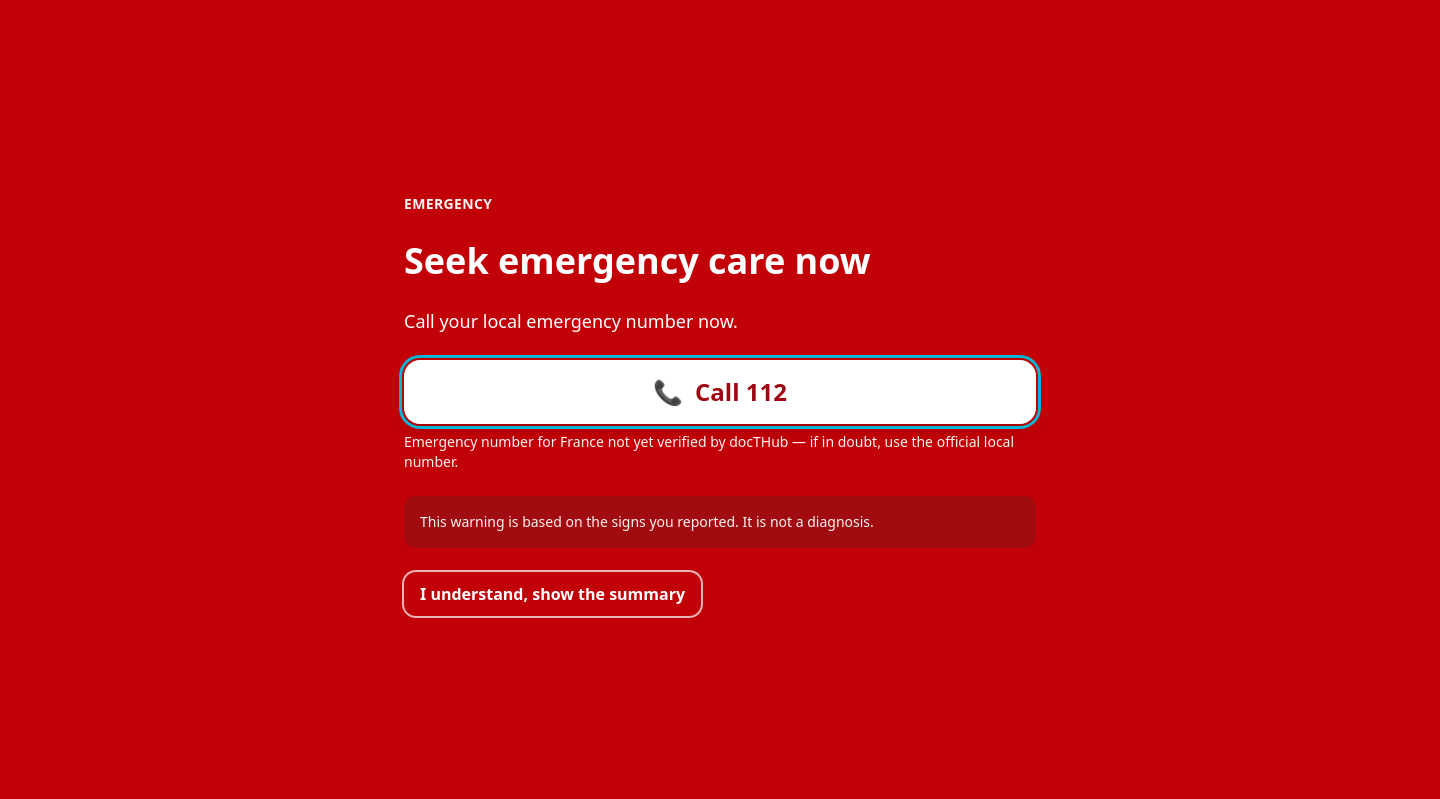
Scenario: ResultsPage › shows only the emergency instruction when an emergency rule matched
Expected: the dialog shows "Call your local emergency number now.", [404,309,738,333]
Expected: the text "not yet verified" is shown, [404,432,1014,471]
// Once acknowledged, the instruction stays pinned at the top with the call button.
Click the button "I understand, show the summary" at point(553, 594), box [404,572,701,616]
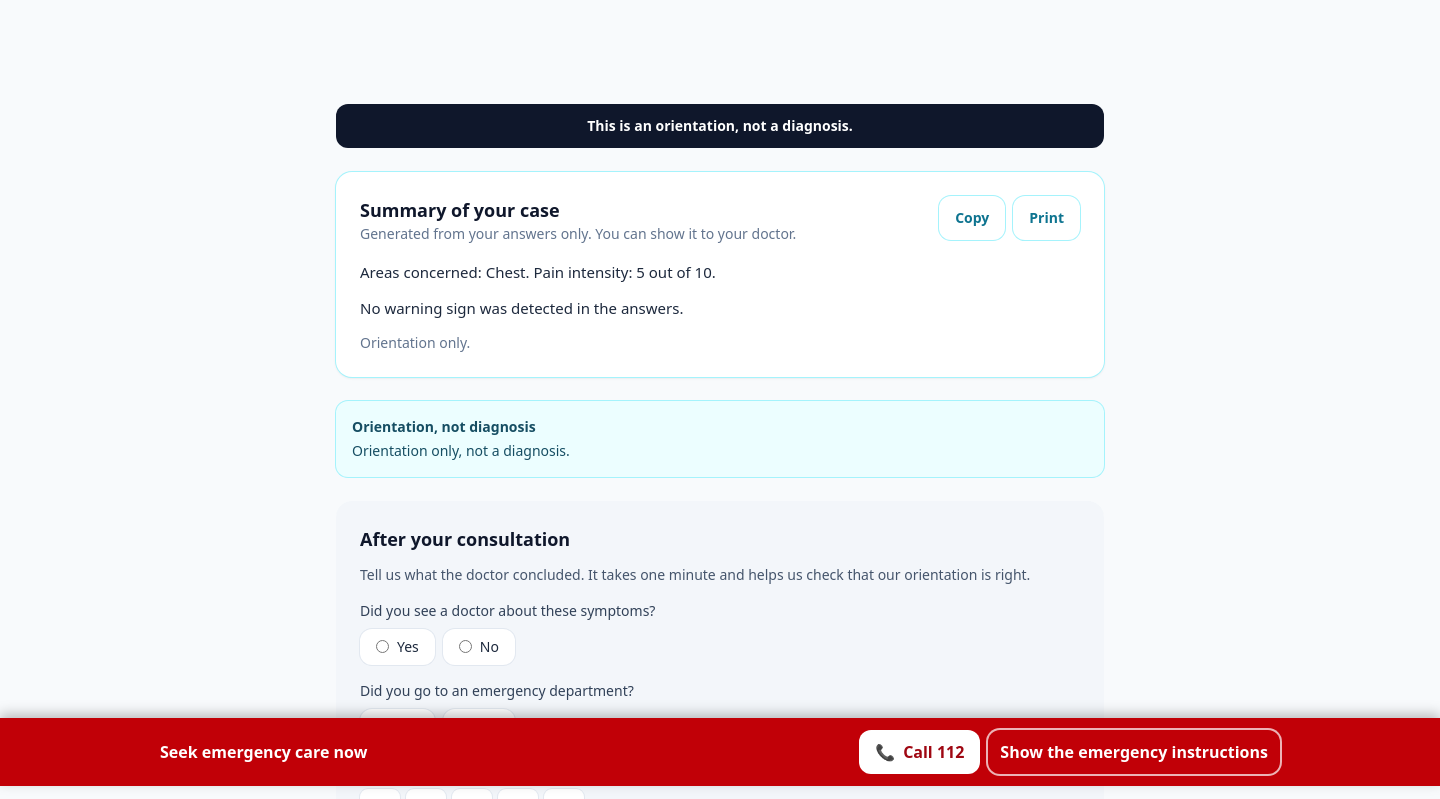
Expected: the text "This is an orientation, not a diagnosis." is shown, [336,104,1104,148]
Now the message shows "Seek emergency care now", box [160,741,367,763]
